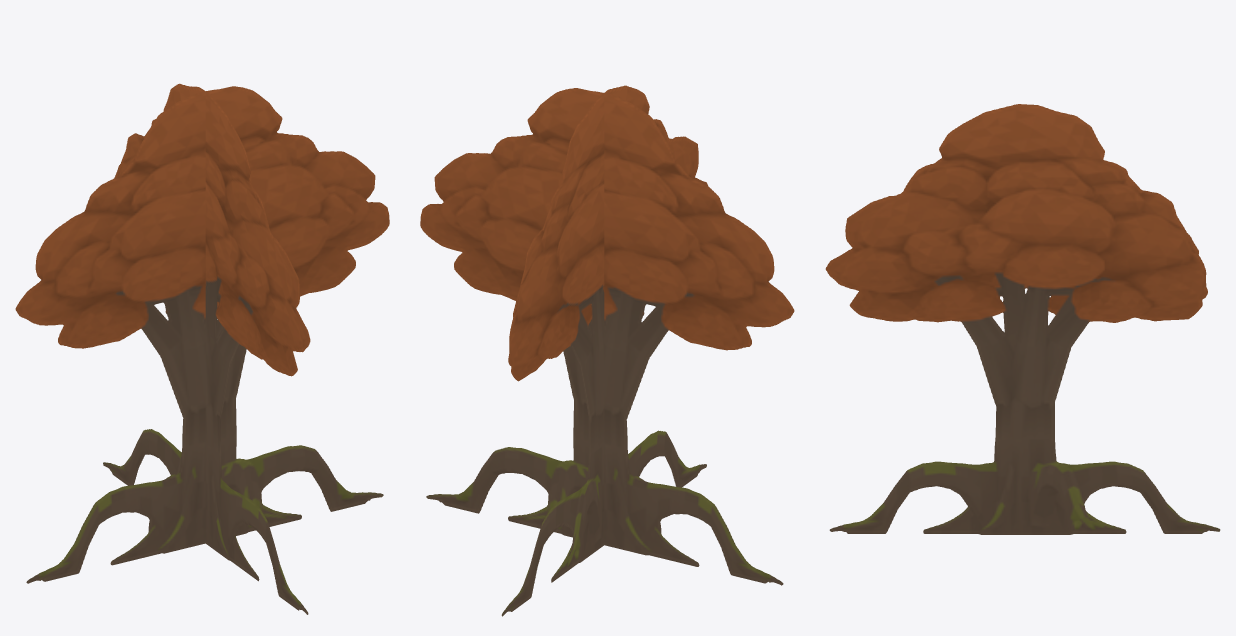
The model's file is tree_ancient_far.glb.
3 renders of one model, left to right at view 1: azimuth 30°, elevation 25°; view 2: azimuth 150°, elevation 25°; view 3: azimuth 270°, elevation 25°, orthographic. The views are drawn at different scales.
Bounding box in the file's own units: 35.54 × 41 × 34.13.
1 material, 1 textured.
